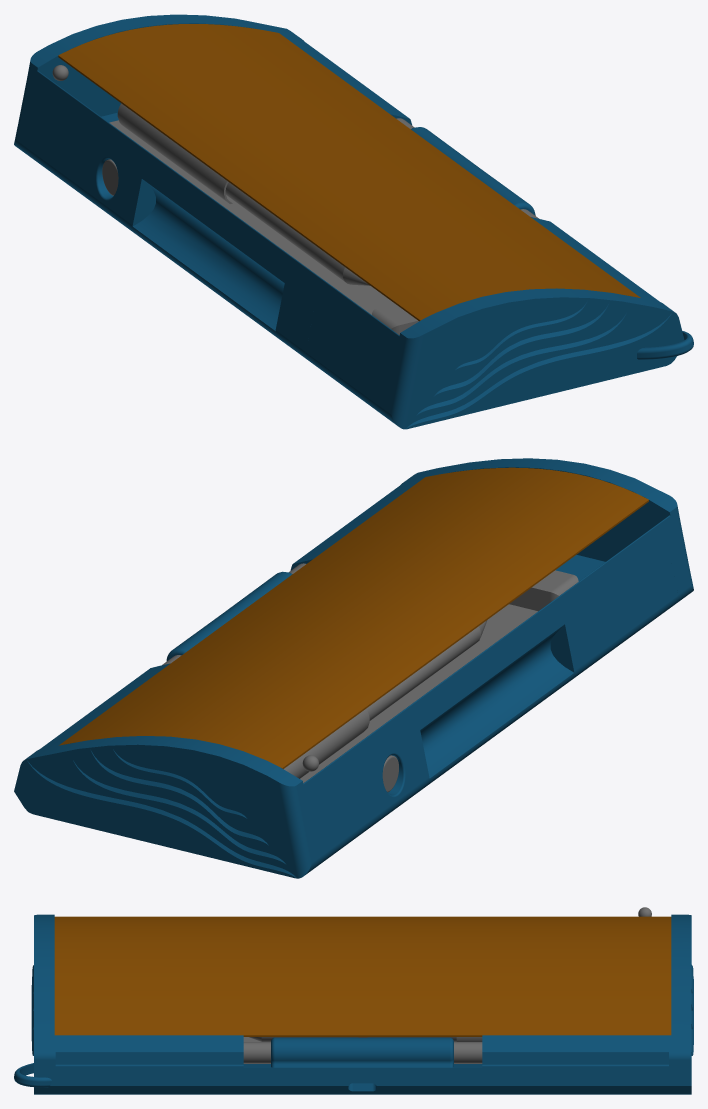
File: Model variant.glb
The picture shows the model from 3 angles, top to bottom: view 1: azimuth 30°, elevation 25°; view 2: azimuth 150°, elevation 25°; view 3: azimuth 270°, elevation 25°; orthographic projection. The views are drawn at different scales.
Parts seen in each view (by area): view 1: Default(81A6FD07-07B3-46A2-9A1D-D32BB665BBDB), Default(7A10AE06-80BF-4960-B03E-CEBC579B5B10), Default(A1AA8C75-FA83-4E80-AFE9-838F13577D67), Default(F653AD00-F61A-4114-B962-98F1D69EEB9F), Default(9F3C9DC3-DCCE-449C-9DA1-AAED6D9F9D03); view 2: Default(81A6FD07-07B3-46A2-9A1D-D32BB665BBDB), Default(7A10AE06-80BF-4960-B03E-CEBC579B5B10), Default(A1AA8C75-FA83-4E80-AFE9-838F13577D67), Default(F653AD00-F61A-4114-B962-98F1D69EEB9F), Default(9F3C9DC3-DCCE-449C-9DA1-AAED6D9F9D03); view 3: Default(7A10AE06-80BF-4960-B03E-CEBC579B5B10), Default(81A6FD07-07B3-46A2-9A1D-D32BB665BBDB), Default(1D730C12-E086-4942-8478-0AC179E6361E).
Boxes of the visible parts, x1,y1,x2,y2 form: Default(81A6FD07-07B3-46A2-9A1D-D32BB665BBDB): (14, 14, 693, 429); Default(7A10AE06-80BF-4960-B03E-CEBC579B5B10): (58, 24, 640, 321); Default(A1AA8C75-FA83-4E80-AFE9-838F13577D67): (109, 103, 394, 314); Default(F653AD00-F61A-4114-B962-98F1D69EEB9F): (225, 182, 370, 285); Default(9F3C9DC3-DCCE-449C-9DA1-AAED6D9F9D03): (372, 303, 418, 334); Default(81A6FD07-07B3-46A2-9A1D-D32BB665BBDB): (14, 458, 693, 878); Default(7A10AE06-80BF-4960-B03E-CEBC579B5B10): (59, 467, 648, 768); Default(A1AA8C75-FA83-4E80-AFE9-838F13577D67): (284, 604, 537, 782); Default(F653AD00-F61A-4114-B962-98F1D69EEB9F): (366, 620, 487, 720); Default(9F3C9DC3-DCCE-449C-9DA1-AAED6D9F9D03): (509, 570, 578, 611); Default(7A10AE06-80BF-4960-B03E-CEBC579B5B10): (54, 916, 671, 1036); Default(81A6FD07-07B3-46A2-9A1D-D32BB665BBDB): (14, 914, 693, 1094); Default(1D730C12-E086-4942-8478-0AC179E6361E): (243, 1042, 482, 1063).
Size of the model in its own units: 0.084 by 0.0282 by 0.1985.
